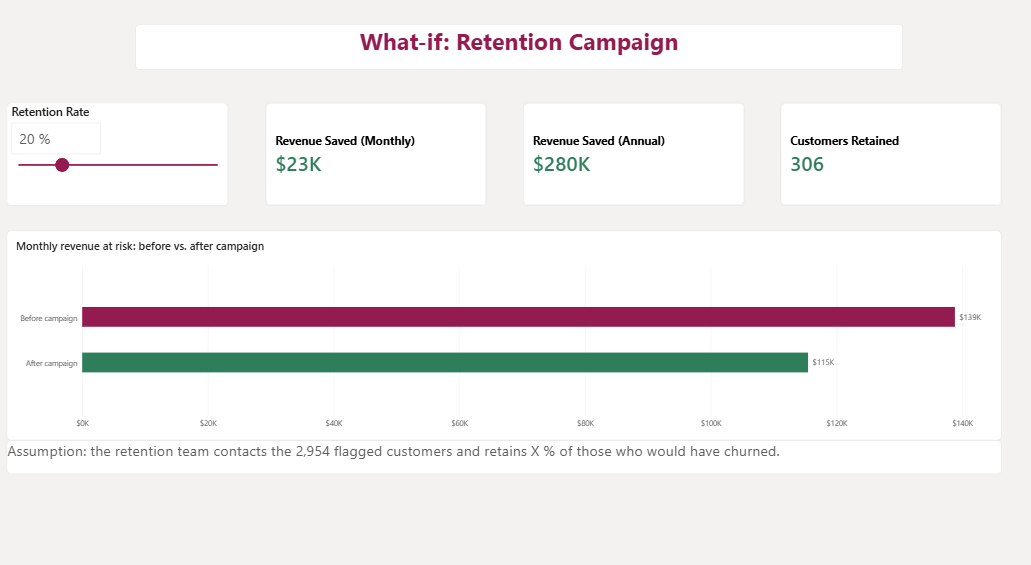

The page's visual inventory and layout, read from the dashboard file:
{"tool":"powerbi","page":{"name":"What-if","canvas":[1920,1080],"ordinal":3},"visuals":[{"type":"textbox","box":[253.2,55.6,1412,84.4],"z":0},{"type":"slicer","fields":{"Values":["Retention Rate.Retention Rate"]},"box":[16.5,199.7,407.5,189.4],"z":1000},{"type":"cardVisual","fields":{"Data":["_Measures.Customers Retained"]},"box":[1440.8,199.7,407.5,189.4],"z":2000},{"type":"cardVisual","fields":{"Data":["_Measures.Revenue Saved (Annual)"]},"box":[966,199.7,407.5,189.4],"z":3000},{"type":"cardVisual","fields":{"Data":["_Measures.Revenue Saved (Monthly)"]},"box":[491.3,199.7,407.5,189.4],"z":4000},{"type":"clusteredBarChart","title":"Monthly revenue at risk: before vs. after campaign","fields":{"Category":["Scenario.Scenario"],"Y":["_Measures.Scenario Revenue at Risk"]},"box":[16.1,434.7,1830.8,386.4],"z":5000},{"type":"textbox","box":[16.1,821.1,1830.8,62.1],"z":6000}]}

Visuals, with their boxes in screenshot pixels (x1, y1, x2, y2), scaled from the page's 1920x1080 canvas onto the 1031x565 screenshot:
textbox: x1=136 y1=29 x2=894 y2=73
slicer - Retention Rate.Retention Rate: x1=9 y1=104 x2=228 y2=204
cardVisual - _Measures.Customers Retained: x1=774 y1=104 x2=992 y2=204
cardVisual - _Measures.Revenue Saved (Annual): x1=519 y1=104 x2=738 y2=204
cardVisual - _Measures.Revenue Saved (Monthly): x1=264 y1=104 x2=483 y2=204
"Monthly revenue at risk: before vs. after campaign" clusteredBarChart: x1=9 y1=227 x2=992 y2=430
textbox: x1=9 y1=430 x2=992 y2=462
